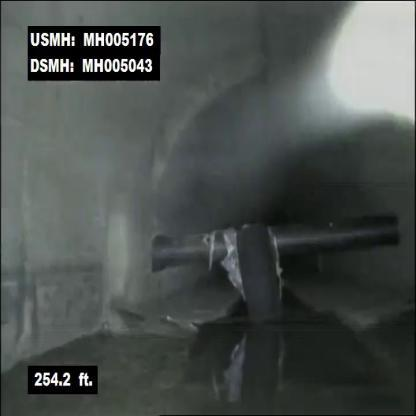utits: (128, 203, 409, 292)
